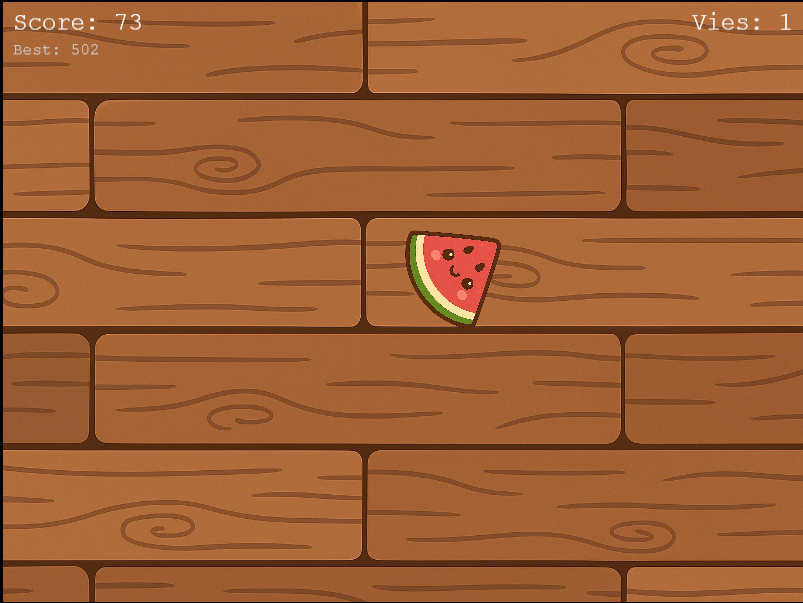fruit: (397, 224, 503, 330)
